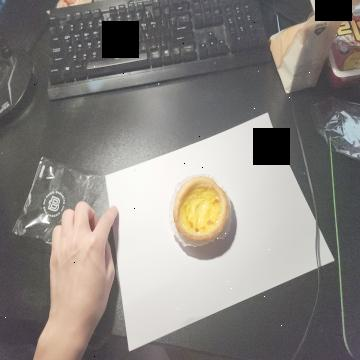EggTart: (172, 174, 232, 248)
